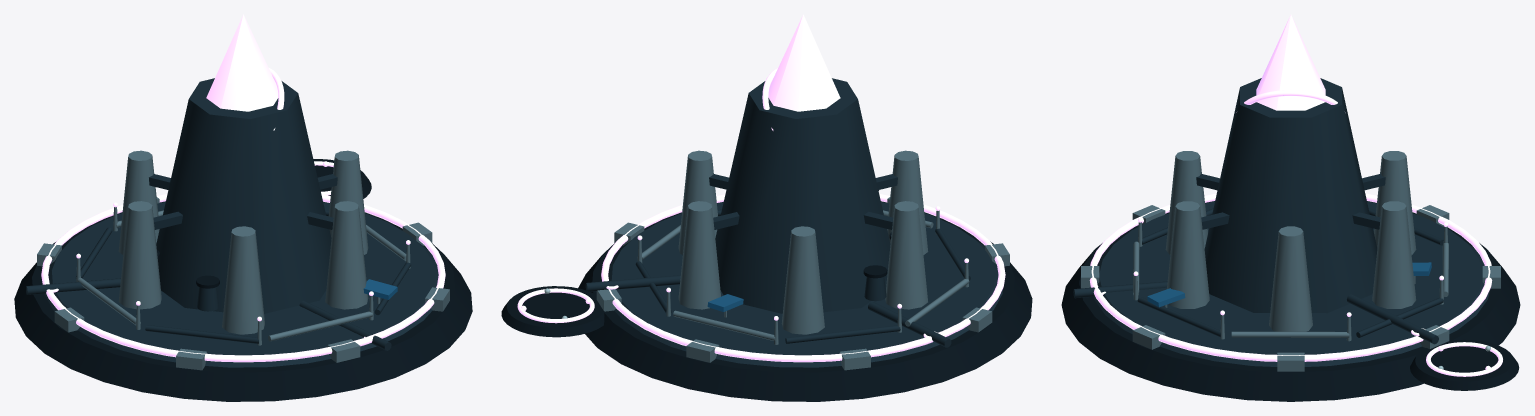
File: naniteFactory-stage1.glb
The picture shows the model from 3 angles, left to right: view 1: azimuth 30°, elevation 25°; view 2: azimuth 150°, elevation 25°; view 3: azimuth 270°, elevation 25°; orthographic projection.
Visible parts, largest first — view 1: assembler-spire, upper-deck, armored-foundation, perimeter-light, nanite-crown, assembler-pylon-3, assembler-pylon-1, assembler-pylon-2, assembler-pylon-4, assembler-pylon-0, utility-conduit-1, service-catwalk-2 (+10 smaller); view 2: assembler-spire, upper-deck, armored-foundation, perimeter-light, nanite-crown, assembler-pylon-4, landing-pad, assembler-pylon-3, assembler-pylon-5, assembler-pylon-2, assembler-pylon-0, utility-conduit-2 (+9 smaller); view 3: assembler-spire, upper-deck, armored-foundation, perimeter-light, landing-pad, assembler-pylon-5, assembler-pylon-0, nanite-crown, assembler-pylon-1, assembler-pylon-2, assembler-pylon-4, utility-conduit-2 (+9 smaller).
Part boxes in pixels (left/top/right/bottom): assembler-spire: left=156, top=78, right=331, bottom=313; upper-deck: left=44, top=202, right=443, bottom=367; armored-foundation: left=14, top=201, right=472, bottom=401; perimeter-light: left=41, top=194, right=445, bottom=362; nanite-crown: left=206, top=14, right=278, bottom=111; assembler-pylon-3: left=118, top=201, right=161, bottom=309; assembler-pylon-1: left=325, top=201, right=368, bottom=309; assembler-pylon-2: left=222, top=226, right=264, bottom=334; assembler-pylon-4: left=118, top=150, right=159, bottom=254; assembler-pylon-0: left=328, top=150, right=368, bottom=254; utility-conduit-1: left=26, top=278, right=120, bottom=294; service-catwalk-2: left=145, top=325, right=258, bottom=343; assembler-spire: left=715, top=78, right=890, bottom=313; upper-deck: left=608, top=202, right=1002, bottom=367; armored-foundation: left=578, top=201, right=1032, bottom=401; perimeter-light: left=601, top=194, right=1005, bottom=362; nanite-crown: left=768, top=14, right=840, bottom=111; assembler-pylon-4: left=781, top=226, right=824, bottom=334; landing-pad: left=501, top=286, right=604, bottom=337; assembler-pylon-3: left=885, top=201, right=927, bottom=309; assembler-pylon-5: left=678, top=201, right=720, bottom=309; assembler-pylon-2: left=887, top=150, right=928, bottom=254; assembler-pylon-0: left=678, top=150, right=717, bottom=254; utility-conduit-2: left=585, top=275, right=680, bottom=291; assembler-spire: left=1204, top=78, right=1377, bottom=313; upper-deck: left=1093, top=201, right=1490, bottom=366; armored-foundation: left=1061, top=201, right=1520, bottom=401; perimeter-light: left=1089, top=193, right=1492, bottom=361; landing-pad: left=1410, top=339, right=1519, bottom=390; assembler-pylon-5: left=1372, top=201, right=1416, bottom=308; assembler-pylon-0: left=1269, top=226, right=1312, bottom=331; nanite-crown: left=1256, top=14, right=1325, bottom=110; assembler-pylon-1: left=1167, top=201, right=1209, bottom=308; assembler-pylon-2: left=1165, top=151, right=1207, bottom=254; assembler-pylon-4: left=1374, top=151, right=1416, bottom=254; utility-conduit-2: left=1347, top=294, right=1438, bottom=344.
Bounding box in the file's own units: 8.72 × 5.97 × 8.53.
